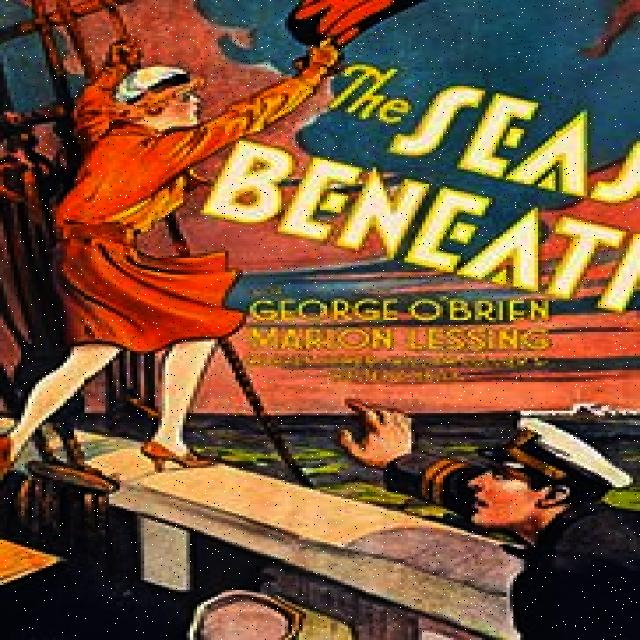movie-judul: (222, 60, 640, 311)
picture: (32, 47, 249, 479), (321, 395, 640, 640)
